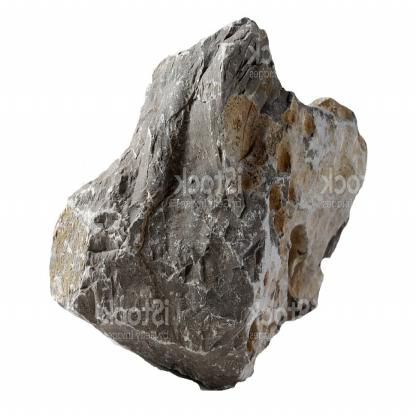Igneous_Granite: (42, 14, 383, 384)
